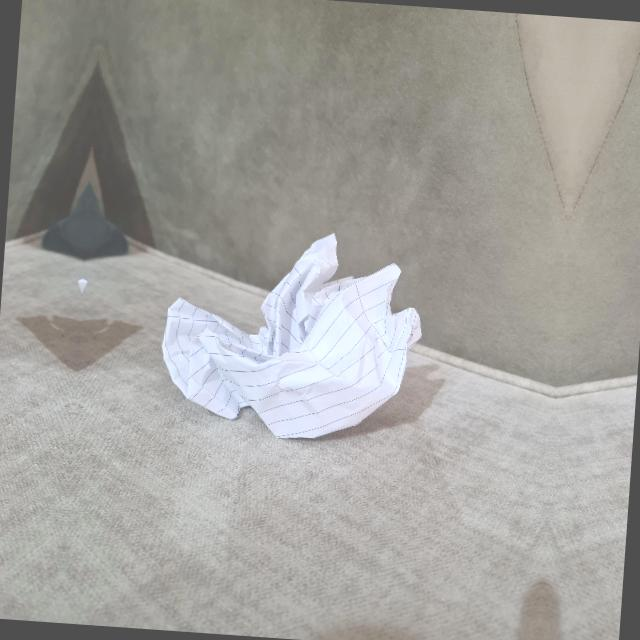paper: (150, 232, 422, 439), (0, 221, 11, 410)
